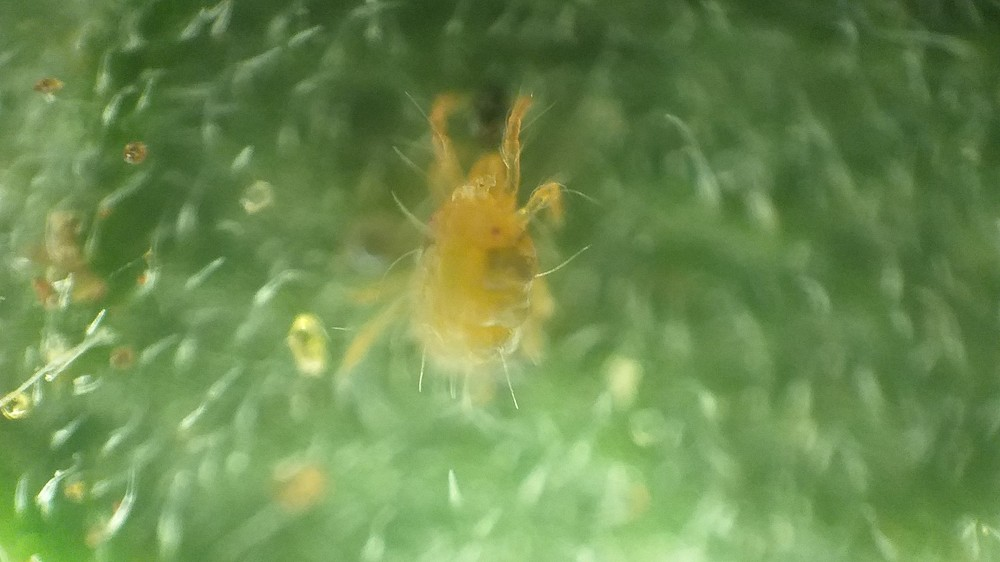Aracnido Rojo: (348, 104, 585, 434)
